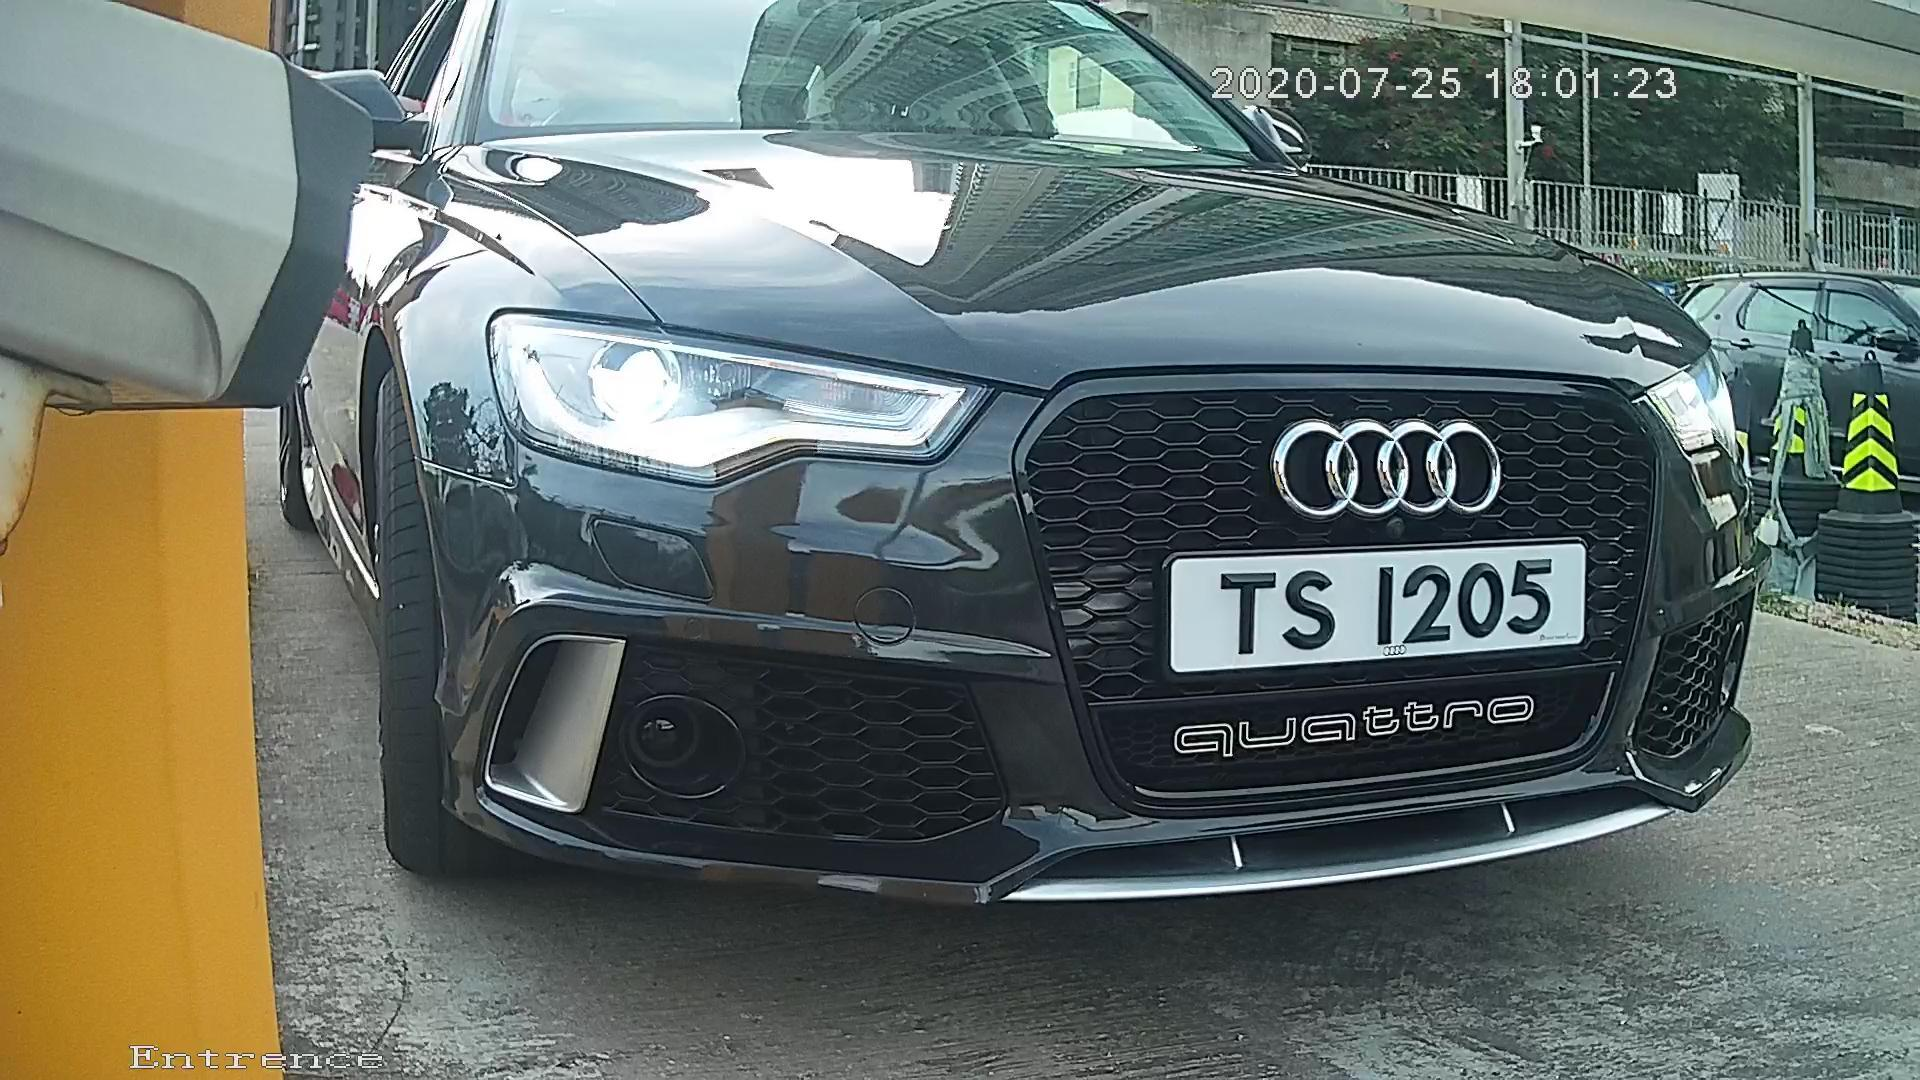privatecar: (206, 29, 1869, 984)
